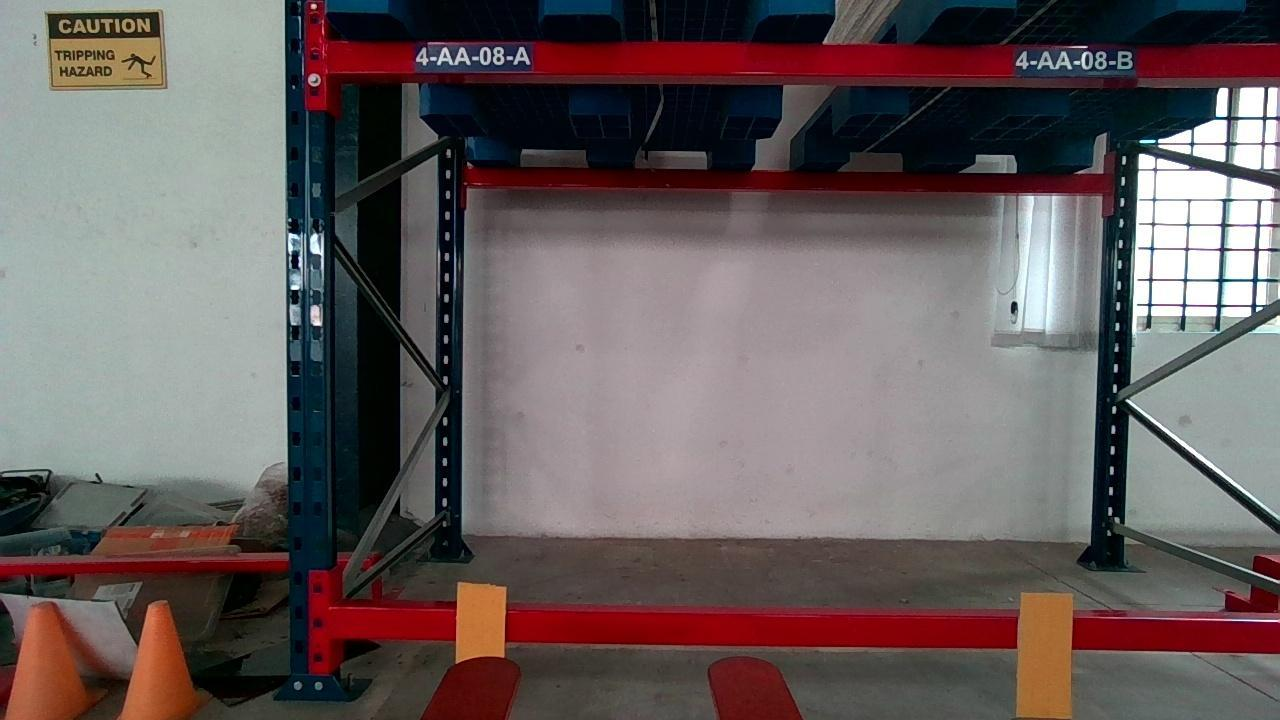h_rack: (325, 607, 1280, 652), (326, 39, 1280, 72)
orange_strip: (1015, 591, 1075, 717), (455, 582, 508, 659)
